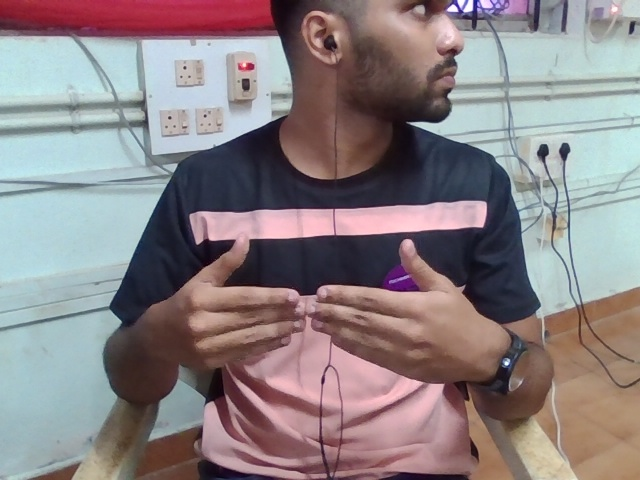more: (157, 219, 523, 399)
